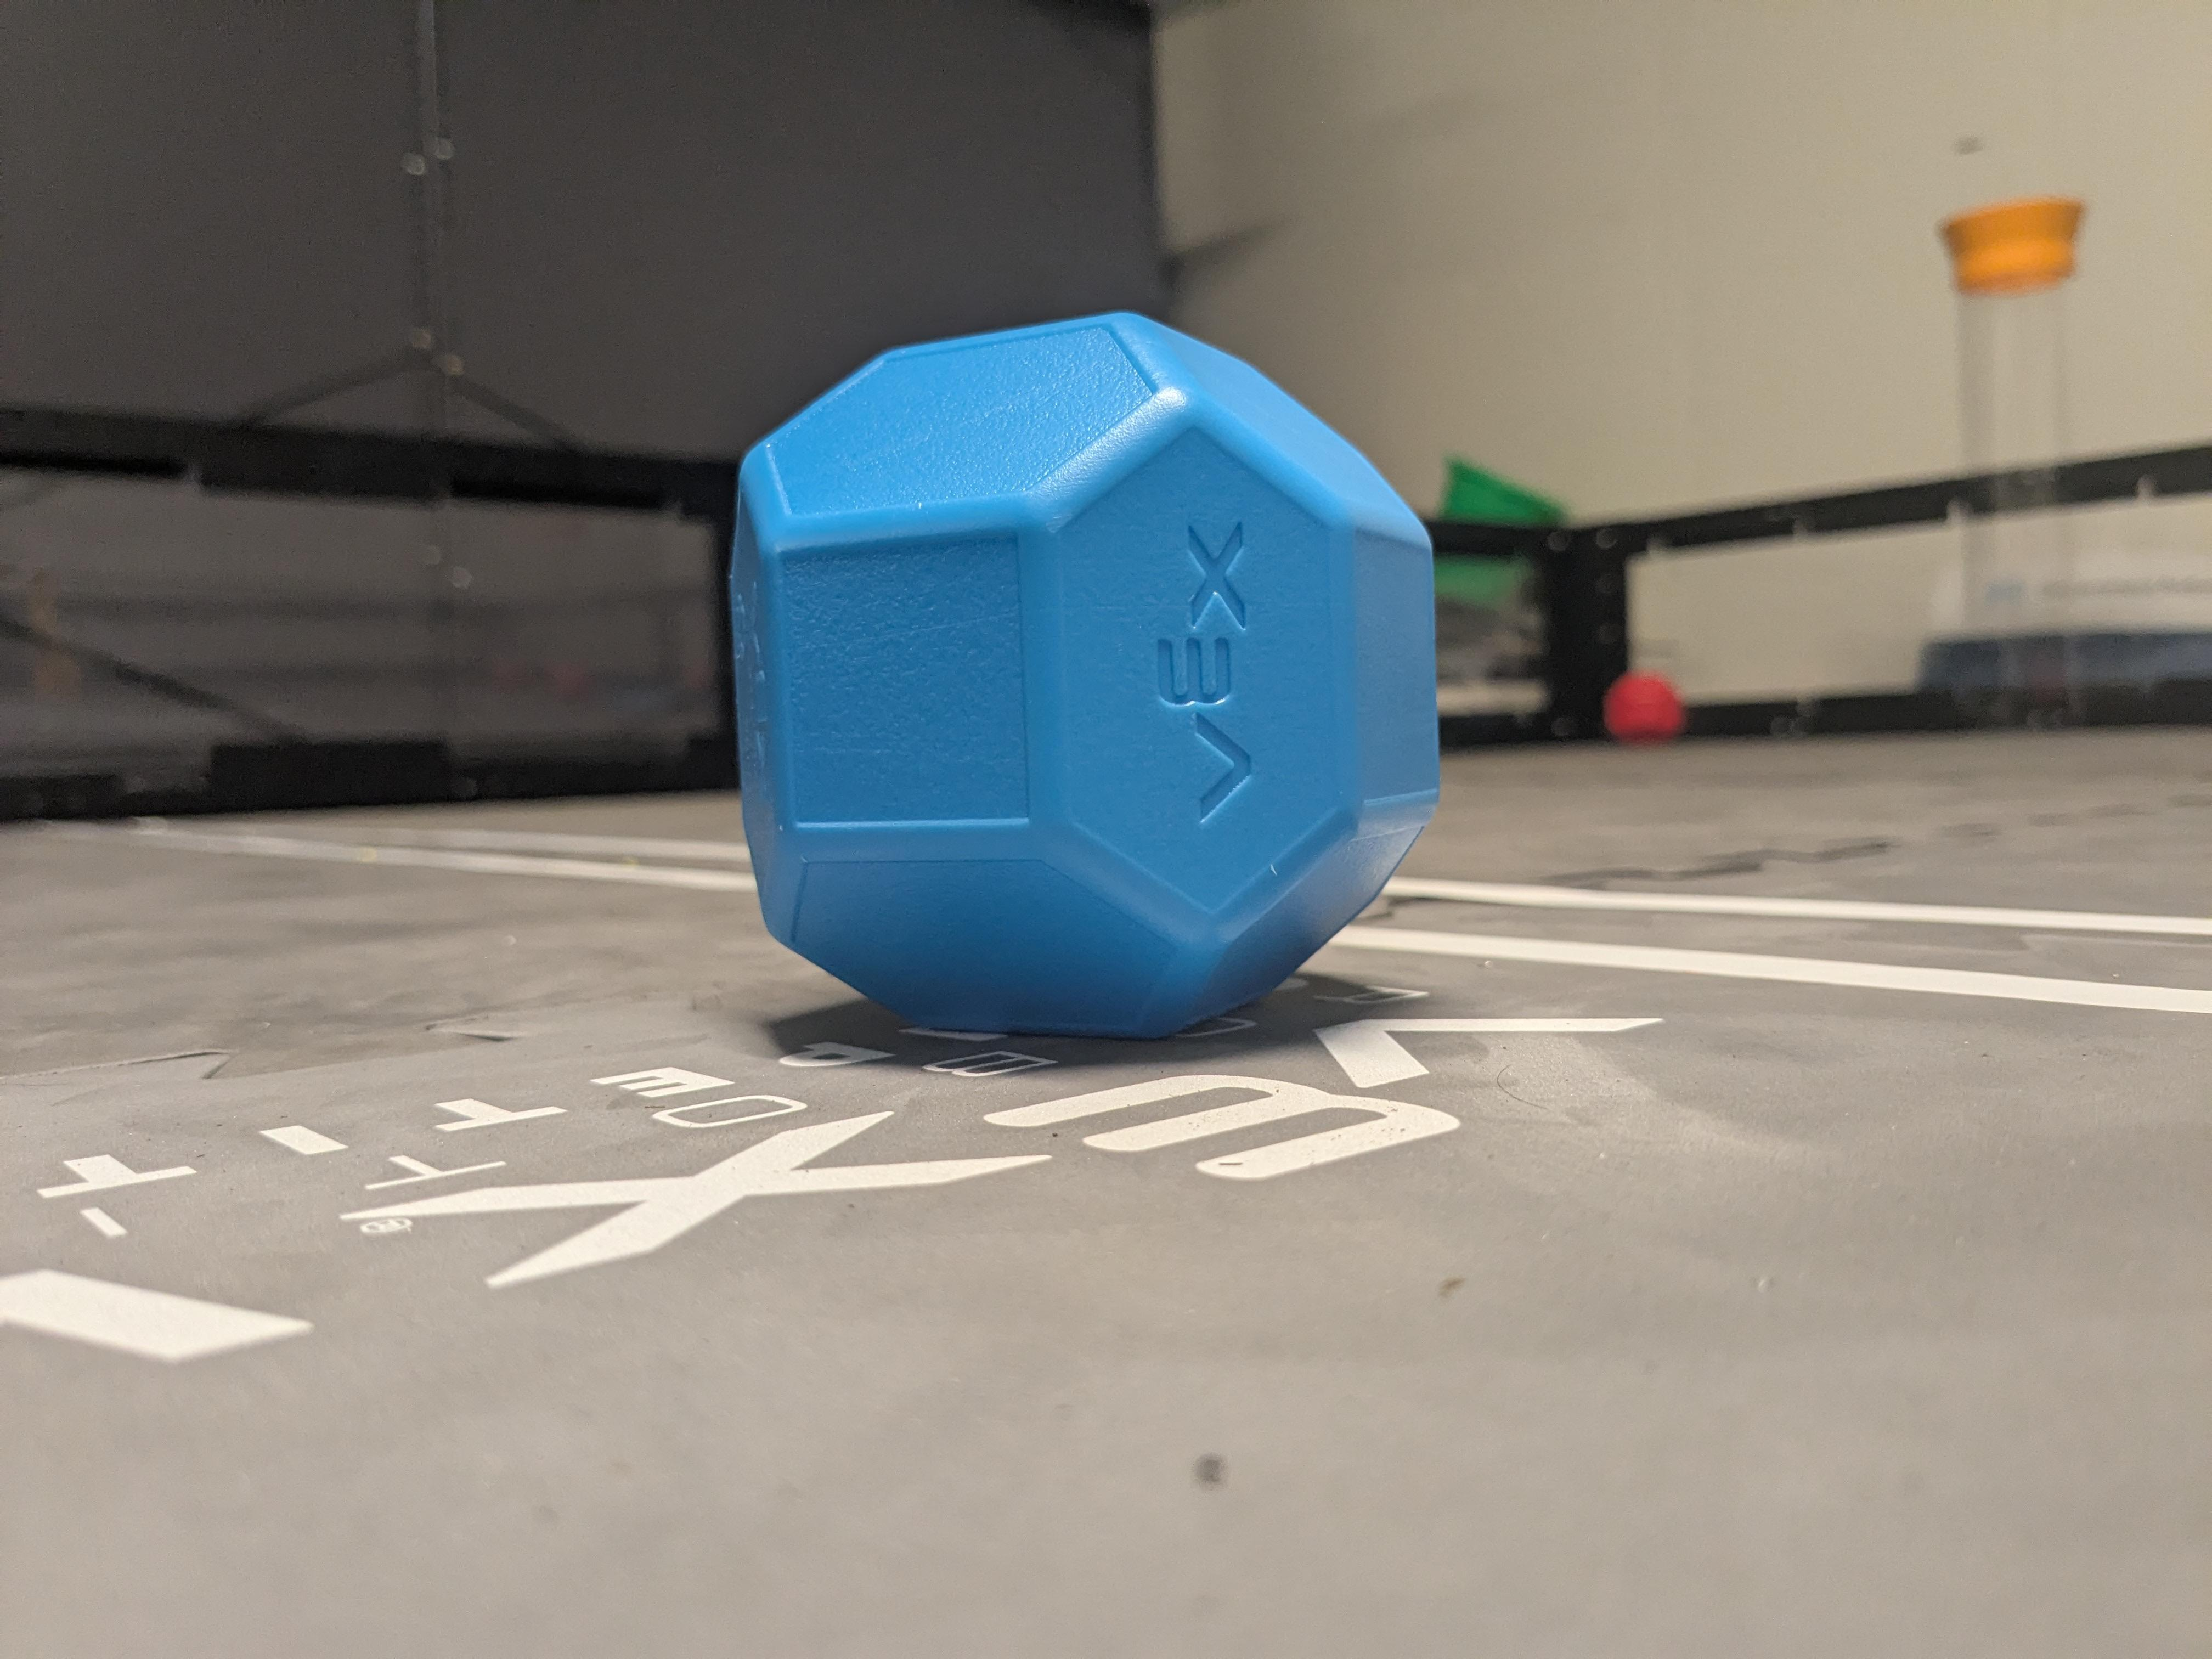Vex-Pieces-BLUE: (752, 310, 1437, 1046)
